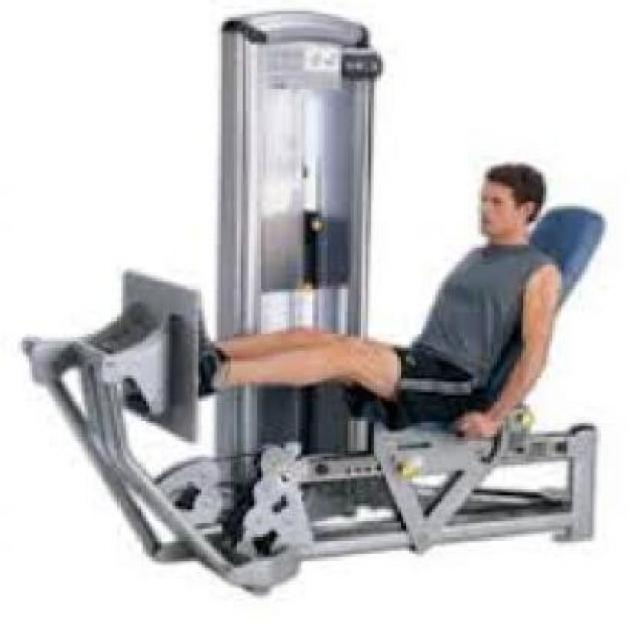leg press: (13, 4, 624, 602)
